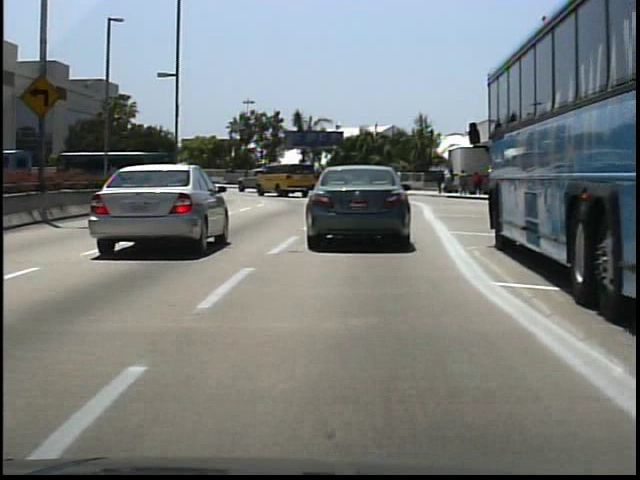person: (469, 167, 487, 197), (454, 166, 469, 197), (240, 165, 256, 189), (433, 168, 447, 195)
